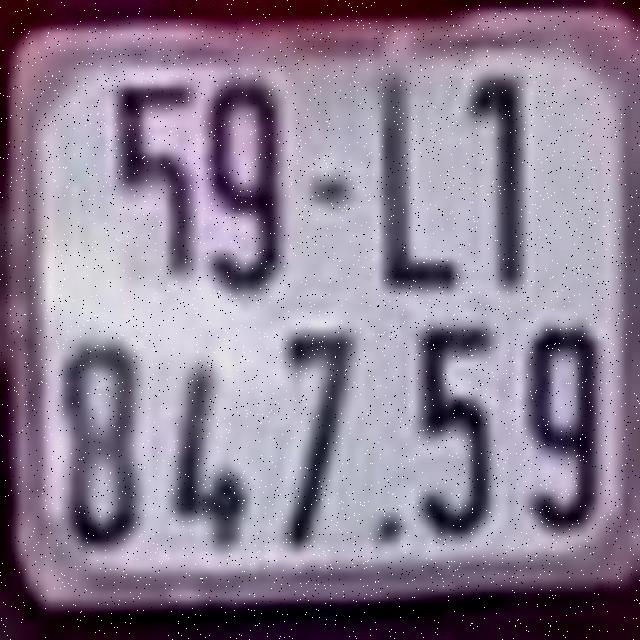1: (466, 63, 543, 290)
4: (172, 350, 252, 553)
5: (110, 76, 200, 311), (414, 320, 497, 538)
7: (278, 321, 358, 550)
8: (63, 339, 139, 548)
9: (205, 68, 286, 298), (522, 312, 602, 536)
L: (366, 60, 464, 293)
